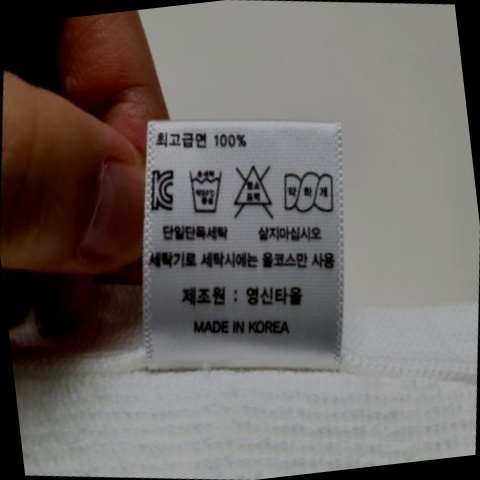hand_wash: (181, 163, 234, 222)
non_chlorine_bleach: (225, 155, 284, 227)
wring: (276, 165, 340, 221)
